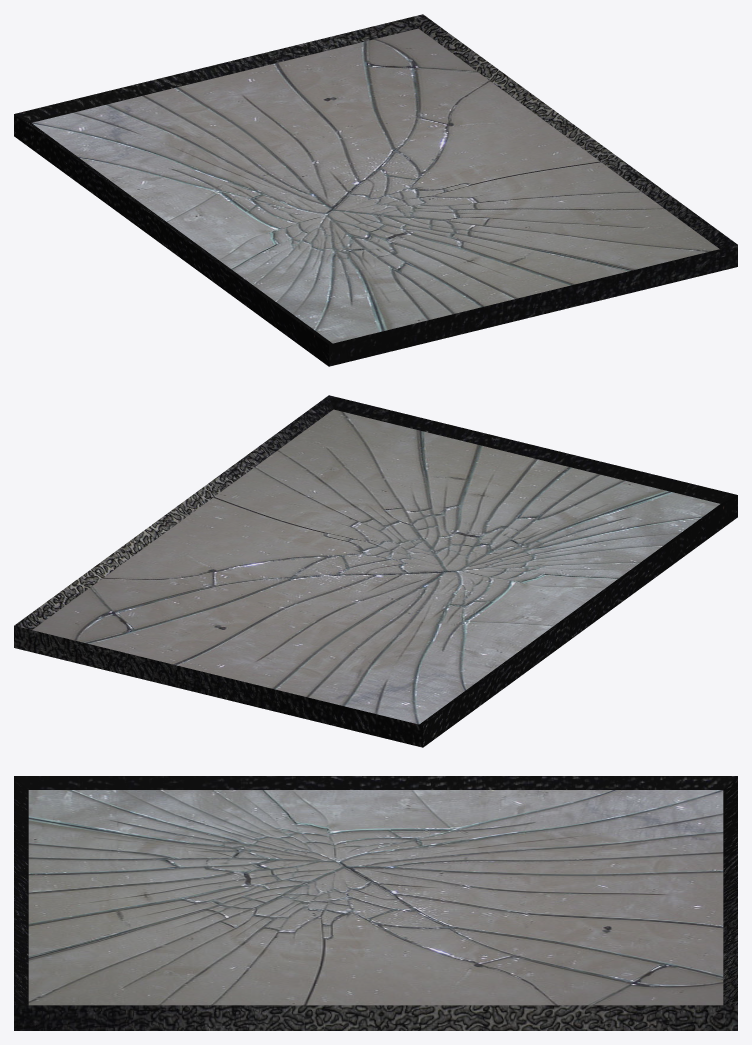
Rendered from Espejo.FBX.
3 views of the same model, one above another, from view 1: azimuth 30°, elevation 25°; view 2: azimuth 150°, elevation 25°; view 3: azimuth 270°, elevation 25° (orthographic). The views are drawn at different scales.
Visible parts, largest first — view 1: Box001; view 2: Box001; view 3: Box001.
Boxes of the visible parts, <box> form: Box001: <box>14,14,737,366</box>; Box001: <box>14,395,737,747</box>; Box001: <box>14,776,737,1030</box>.
Bounding box in the file's own units: 60 × 3.11 × 80.
